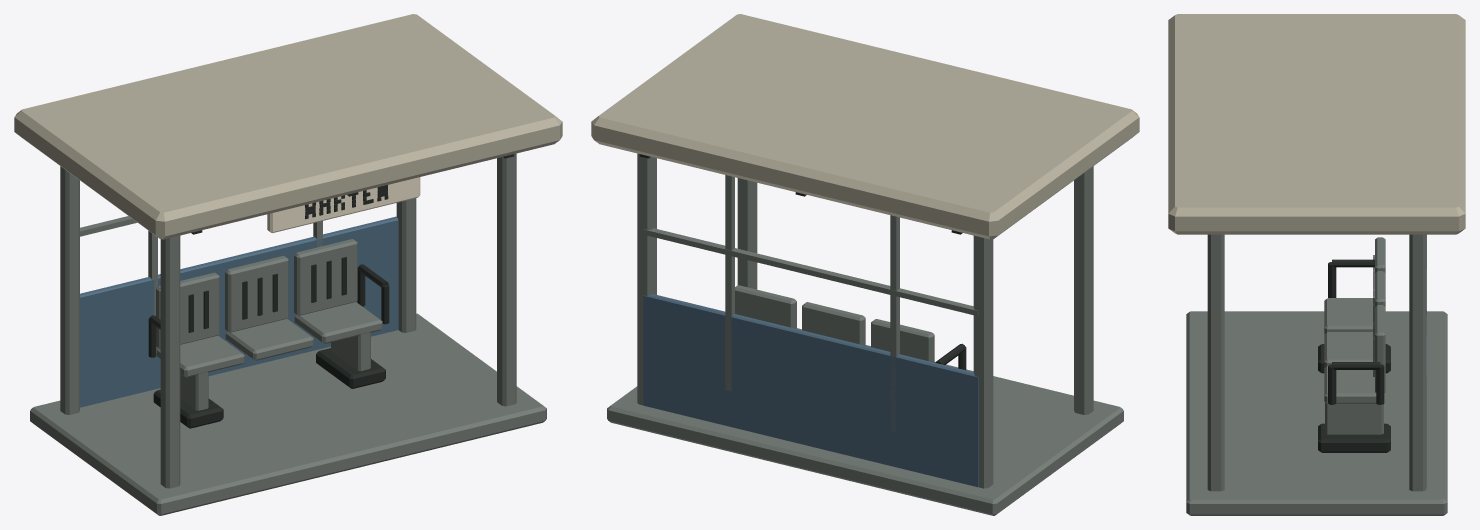
File: platform-shelter.glb
3 views of the same model, side by side, from view 1: azimuth 30°, elevation 25°; view 2: azimuth 150°, elevation 25°; view 3: azimuth 270°, elevation 25° (orthographic).
Visible parts, largest first — view 1: platform-shelter; view 2: platform-shelter; view 3: platform-shelter.
Part boxes in pixels (x1,y1,x2,y2): platform-shelter: (14, 14, 562, 515); platform-shelter: (591, 14, 1139, 515); platform-shelter: (1168, 14, 1465, 515).
Bounding box in the file's own units: 3.65 × 2.65 × 2.3.
